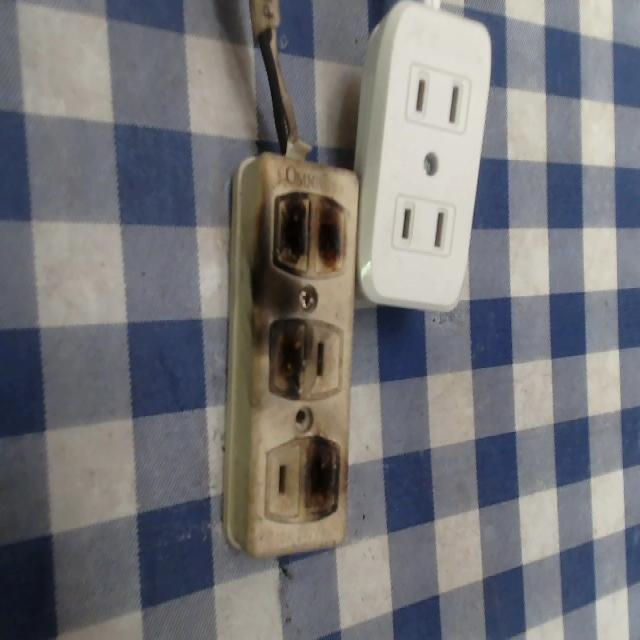-: (262, 189, 352, 272), (304, 432, 350, 516), (264, 313, 309, 396)
